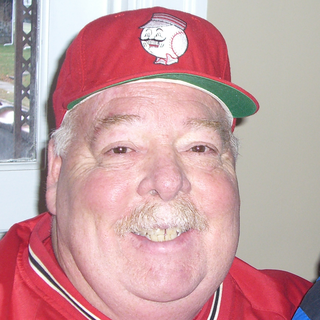eye: (101, 140, 140, 160), (181, 140, 221, 159)
